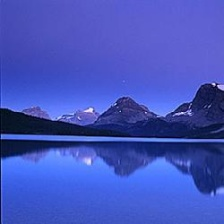neutral: (1, 78, 224, 175)
